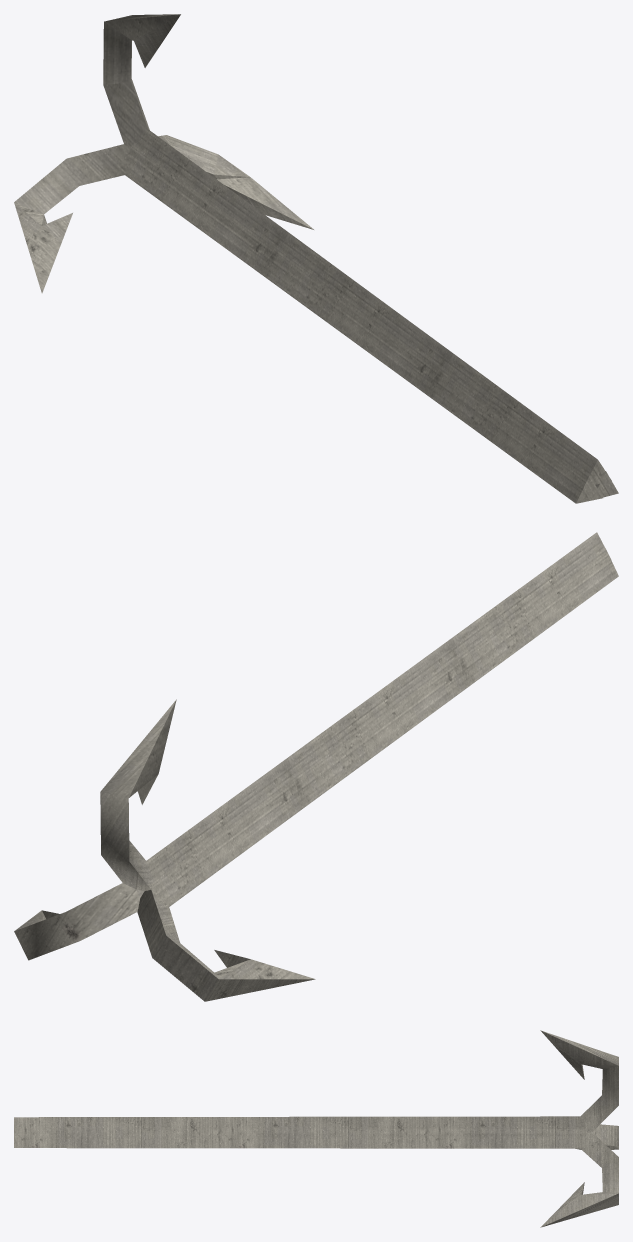
Rendered from hooksteel.gltf.
The picture shows the model from 3 angles, top to bottom: view 1: azimuth 30°, elevation 25°; view 2: azimuth 150°, elevation 25°; view 3: azimuth 270°, elevation 25°; orthographic projection. The views are drawn at different scales.
Visible parts, largest first — view 1: hookB; view 2: hookB; view 3: hookB.
Boxes of the visible parts, <box> form: hookB: <box>14,14,618,503</box>; hookB: <box>14,532,618,1001</box>; hookB: <box>14,1030,618,1227</box>.
Size of the model in its own units: 0.1755 by 0.1529 by 0.5355.
Materials: 1 (1 with a texture image).
